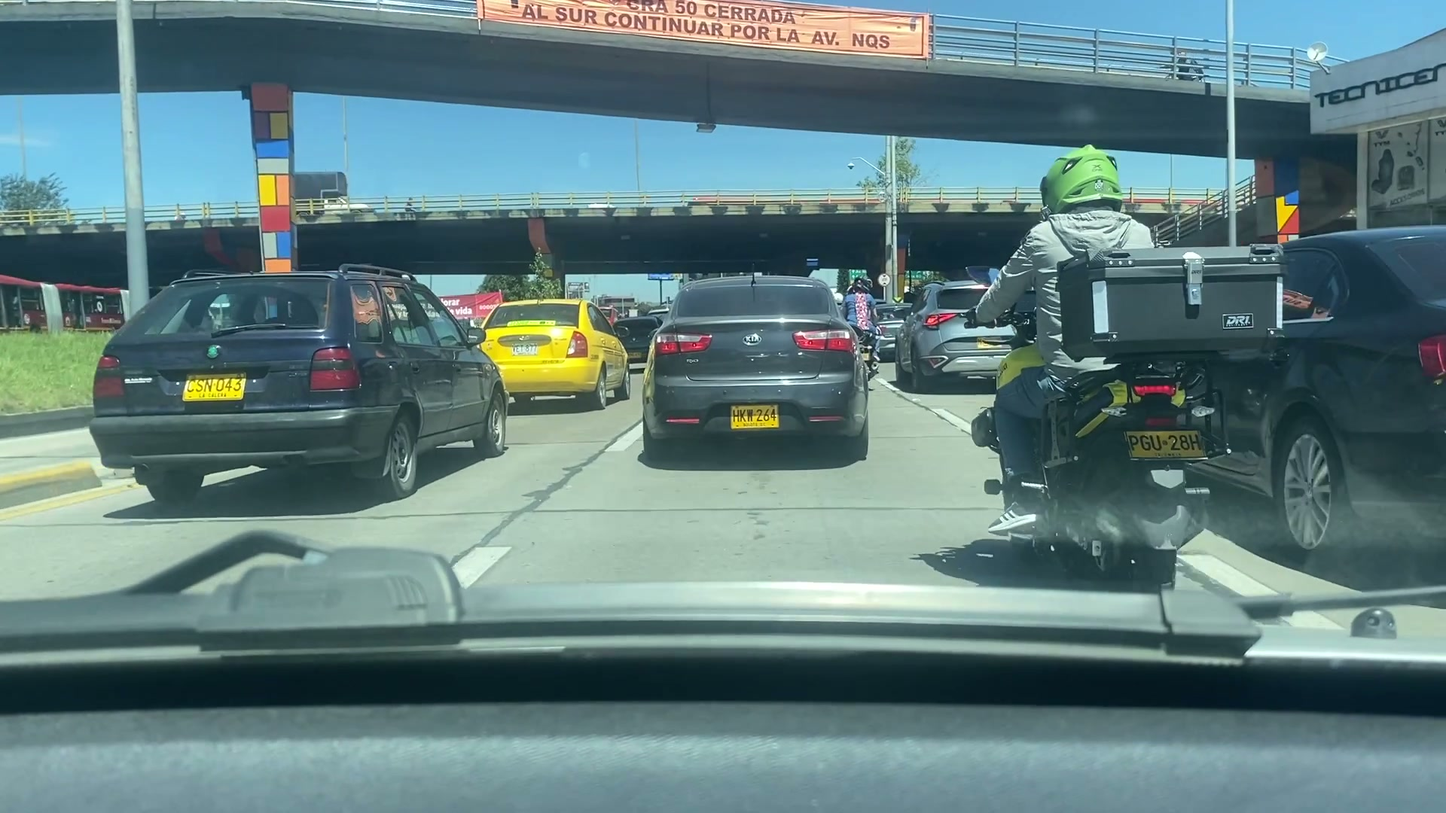car: (89, 265, 509, 500), (1182, 225, 1446, 557), (644, 277, 873, 460), (471, 299, 634, 403), (894, 277, 1017, 385), (868, 301, 918, 358), (612, 318, 663, 361)
motorcycle: (972, 266, 1223, 600)
person: (992, 144, 1150, 539), (840, 277, 877, 353)
